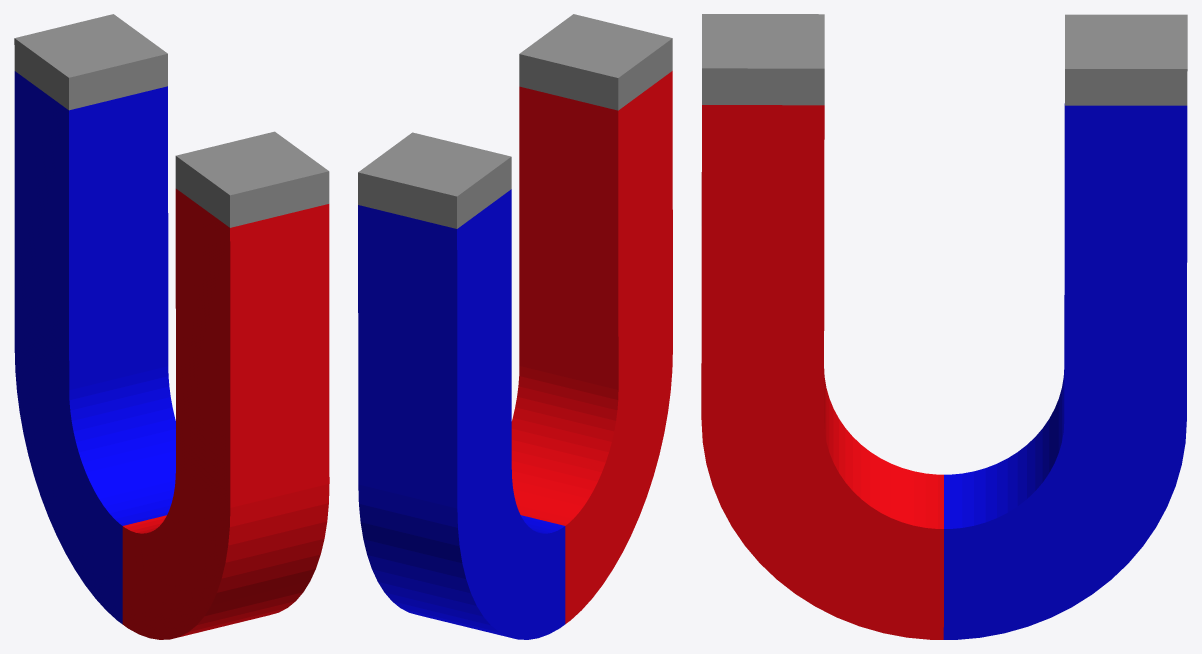
The model's file is magnet.fbx.
3 views of the same model, side by side, from view 1: azimuth 30°, elevation 25°; view 2: azimuth 150°, elevation 25°; view 3: azimuth 270°, elevation 25° (orthographic). The views are drawn at different scales.
Visible parts, largest first — view 1: Magnet; view 2: Magnet; view 3: Magnet.
Part boxes in pixels (x1,y1,x2,y2): Magnet: (14, 14, 329, 639); Magnet: (358, 14, 672, 639); Magnet: (701, 14, 1187, 639).
Size of the model in its own units: 20.72 by 101 by 78.19.
